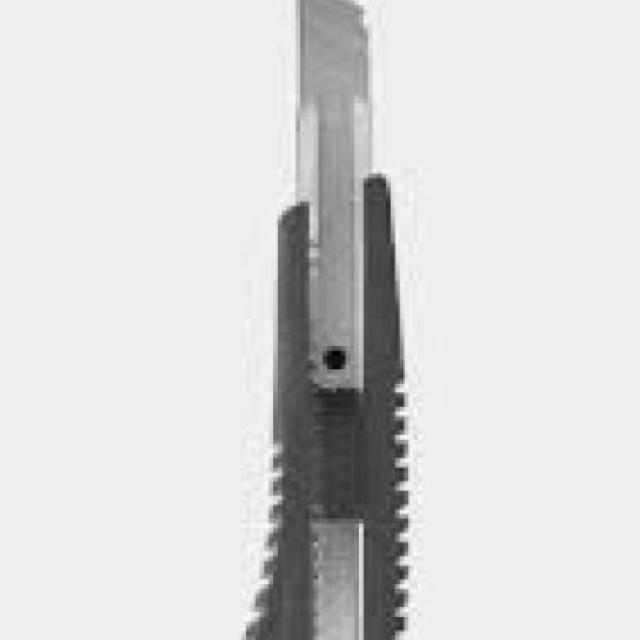estilete: (247, 0, 407, 640)
